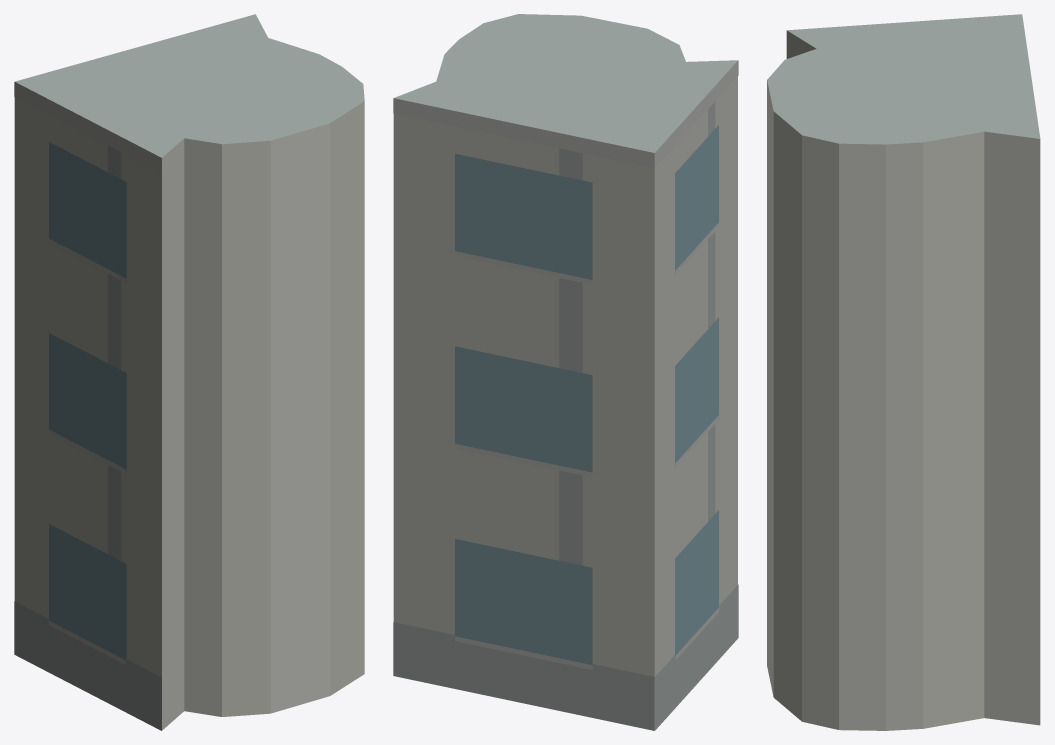
File: survey-upis-32737642.glb
3 views of the same model, side by side, from view 1: azimuth 30°, elevation 25°; view 2: azimuth 150°, elevation 25°; view 3: azimuth 270°, elevation 25° (orthographic). The views are drawn at different scales.
Visible parts, largest first — view 1: survey-upis-32737642.tmp; view 2: survey-upis-32737642.tmp; view 3: survey-upis-32737642.tmp.
Part boxes in pixels (x1,y1,x2,y2): survey-upis-32737642.tmp: (14, 14, 364, 730); survey-upis-32737642.tmp: (393, 14, 738, 730); survey-upis-32737642.tmp: (767, 14, 1040, 730).
Bounding box in the file's own units: 4.37 × 9.15 × 3.87.
